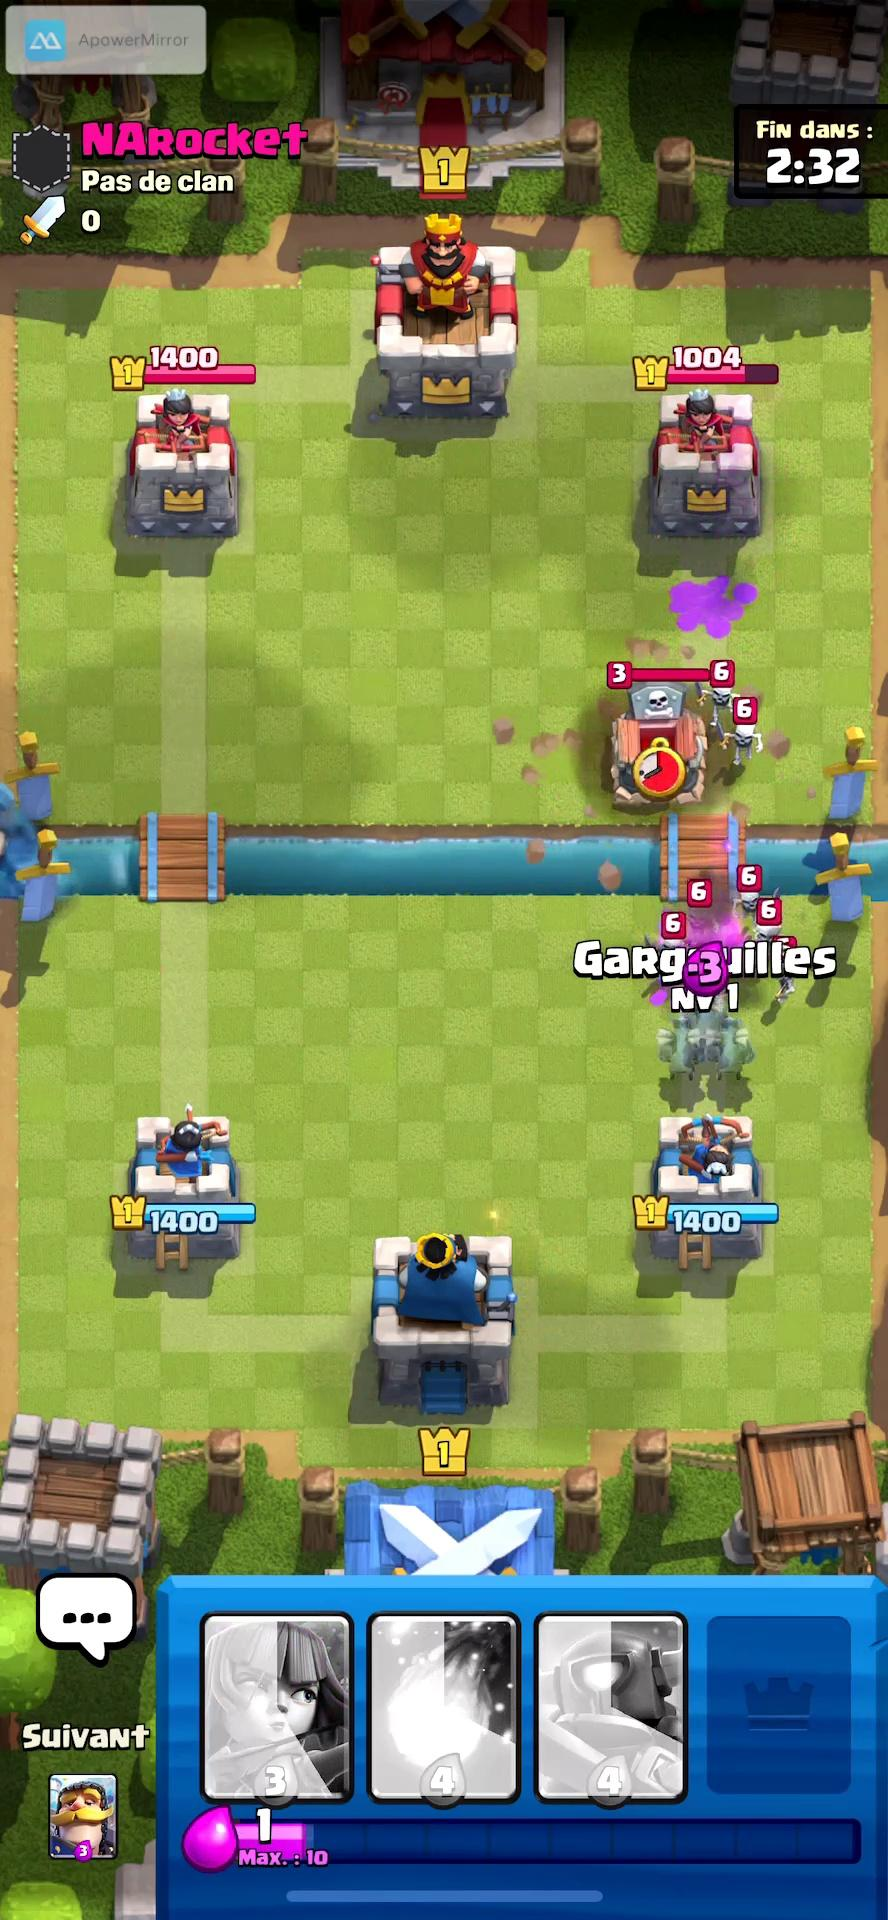gargouille: (660, 1016, 702, 1079), (717, 1019, 753, 1086), (698, 1003, 729, 1056)
squelette: (726, 708, 768, 770), (676, 894, 726, 944), (703, 675, 746, 730), (772, 942, 803, 1010), (751, 909, 783, 967), (732, 882, 767, 928), (658, 932, 686, 971)
